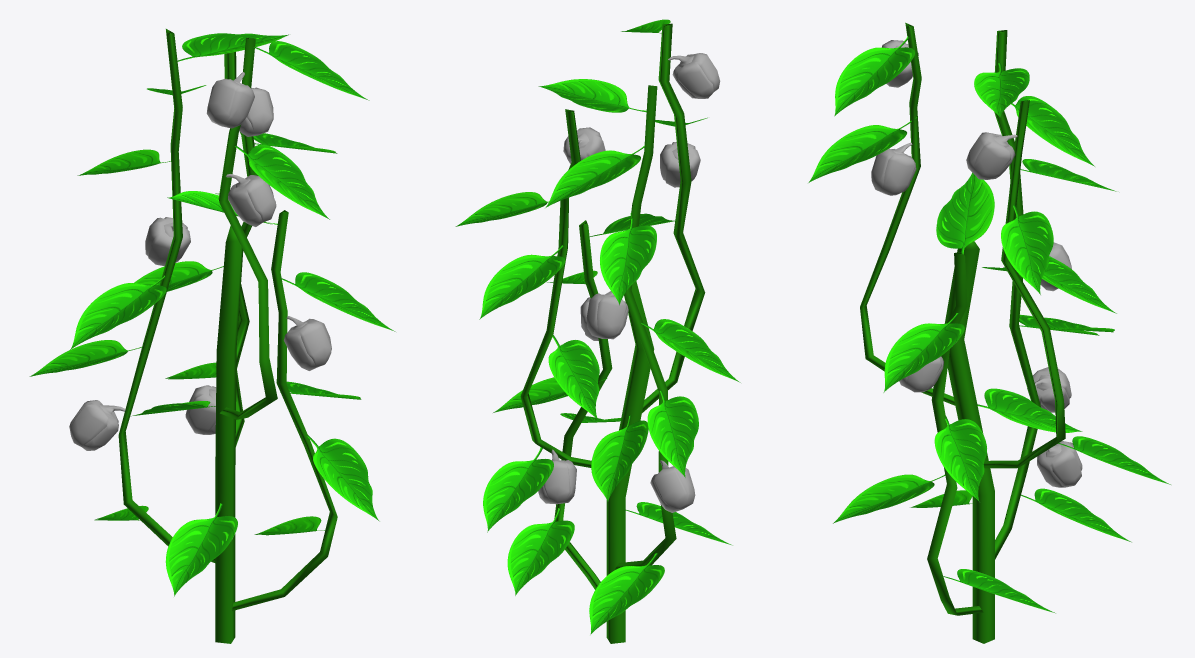
The model's file is Bell Peppers Stage 2.fbx.
3 renders of one model, left to right at view 1: azimuth 30°, elevation 25°; view 2: azimuth 150°, elevation 25°; view 3: azimuth 270°, elevation 25°, orthographic. The views are drawn at different scales.
Parts seen in each view (by area): view 1: Bell_Peppers_Body_Full_Grown, polySurface200, polySurface196, polySurface191, polySurface193, pCube28, pCube37, pCube33, pCube32, polySurface192, polySurface189, polySurface197 (+9 smaller); view 2: Bell_Peppers_Body_Full_Grown, polySurface195, polySurface201, polySurface188, polySurface198, polySurface197, polySurface186, polySurface187, polySurface202, polySurface194, polySurface199, polySurface196 (+10 smaller); view 3: Bell_Peppers_Body_Full_Grown, polySurface203, polySurface185, polySurface192, polySurface189, polySurface190, polySurface193, polySurface191, polySurface194, polySurface202, polySurface199, pCube39 (+9 smaller).
Part boxes in pixels (<box>): Bell_Peppers_Body_Full_Grown: <box>118,29,337,643</box>; polySurface200: <box>165,503,237,596</box>; polySurface196: <box>70,275,166,349</box>; polySurface191: <box>307,435,379,521</box>; polySurface193: <box>235,144,329,219</box>; pCube28: <box>69,400,125,450</box>; pCube37: <box>284,316,331,370</box>; pCube33: <box>206,72,254,128</box>; pCube32: <box>226,174,276,226</box>; polySurface192: <box>254,41,369,100</box>; polySurface189: <box>281,272,395,331</box>; polySurface197: <box>29,340,142,376</box>; Bell_Peppers_Body_Full_Grown: <box>520,23,705,643</box>; polySurface195: <box>600,213,656,305</box>; polySurface201: <box>507,508,574,595</box>; polySurface188: <box>483,446,553,532</box>; polySurface198: <box>589,553,664,634</box>; polySurface197: <box>647,390,698,477</box>; polySurface186: <box>479,245,565,319</box>; polySurface187: <box>548,335,599,419</box>; polySurface202: <box>591,415,648,501</box>; polySurface194: <box>545,145,644,207</box>; polySurface199: <box>538,79,646,112</box>; polySurface196: <box>641,319,740,382</box>; Bell_Peppers_Body_Full_Grown: <box>860,22,1065,643</box>; polySurface203: <box>936,172,994,254</box>; polySurface185: <box>1001,204,1053,294</box>; polySurface192: <box>834,36,915,116</box>; polySurface189: <box>883,312,964,392</box>; polySurface190: <box>934,416,986,502</box>; polySurface193: <box>808,117,916,182</box>; polySurface191: <box>833,474,947,523</box>; polySurface194: <box>1011,96,1094,166</box>; polySurface202: <box>977,388,1082,432</box>; polySurface199: <box>974,63,1029,117</box>; pCube39: <box>966,132,1017,179</box>.
Bounding box in the file's own units: 0.6049 × 1.16 × 0.6759.
Materials: 3 (1 with a texture image).
